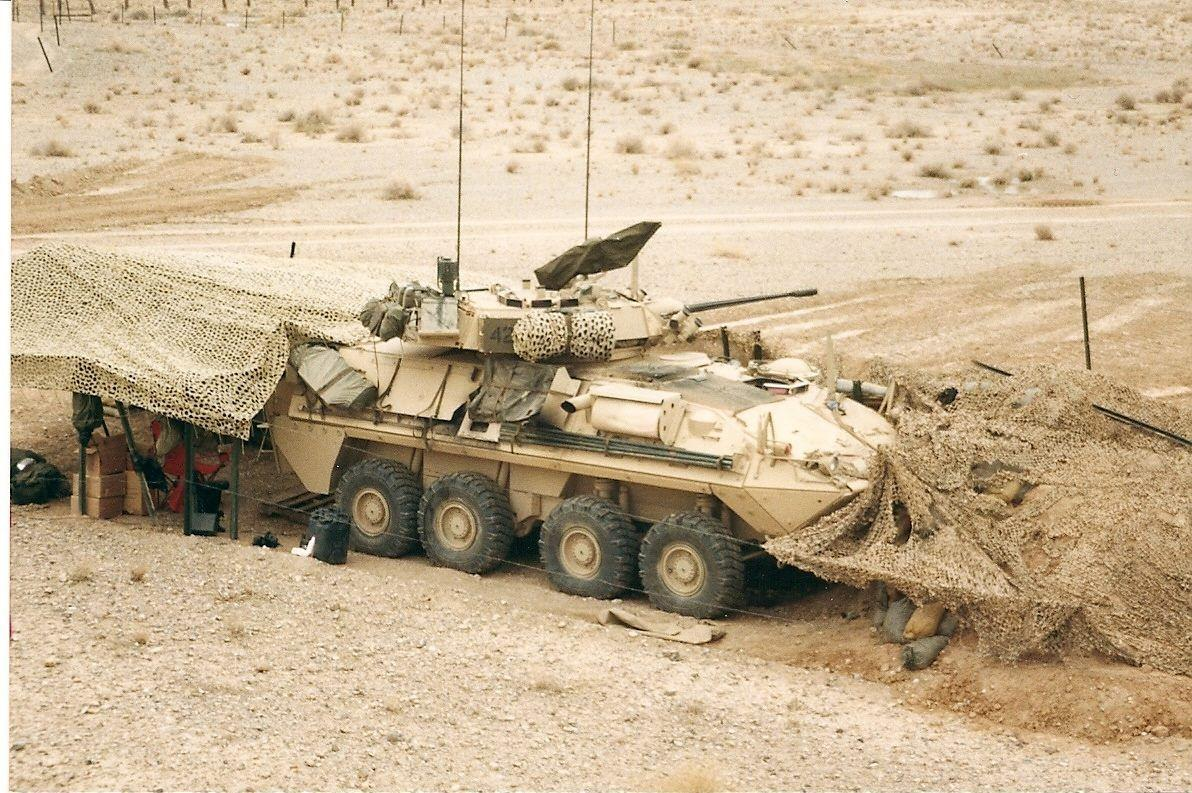armored_car: (267, 245, 919, 623)
